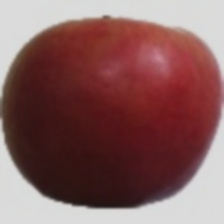apple: (28, 5, 222, 188)
